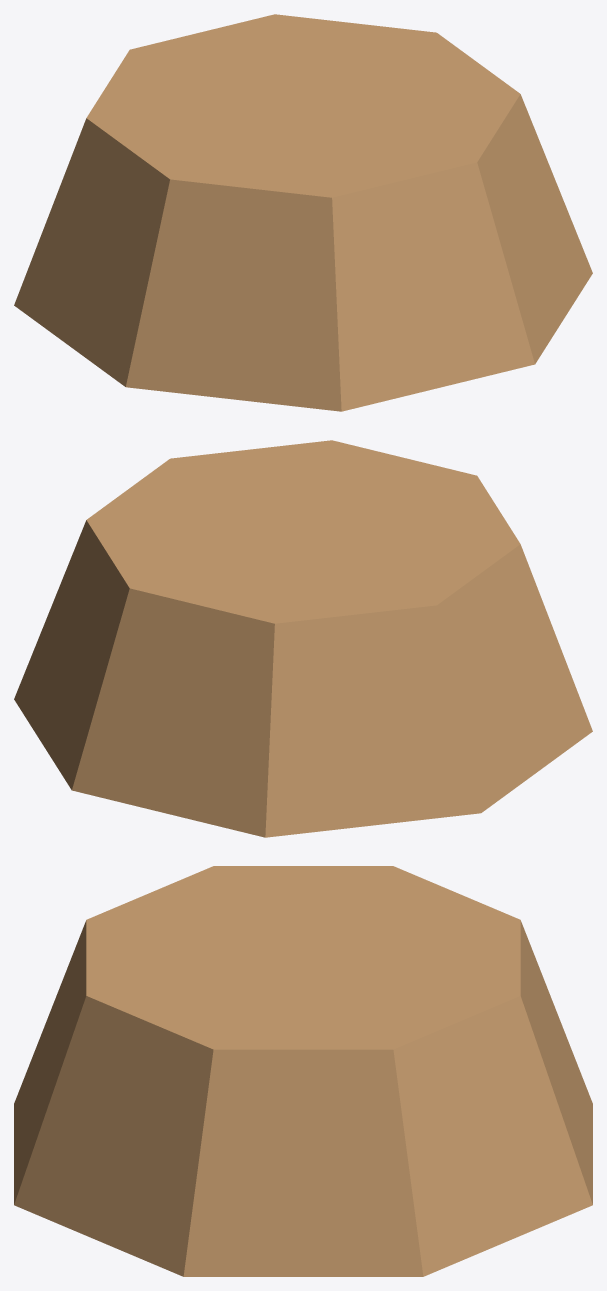
File: Wall_End_Base.fbx
3 views of the same model, one above another, from view 1: azimuth 30°, elevation 25°; view 2: azimuth 150°, elevation 25°; view 3: azimuth 270°, elevation 25° (orthographic). The views are drawn at different scales.
Visible parts, largest first — view 1: object1; view 2: object1; view 3: object1.
Part boxes in pixels (<box>): object1: <box>14,14,592,411</box>; object1: <box>14,440,592,837</box>; object1: <box>14,866,592,1276</box>.
Size of the model in its own units: 0.4 by 0.15 by 0.4.
